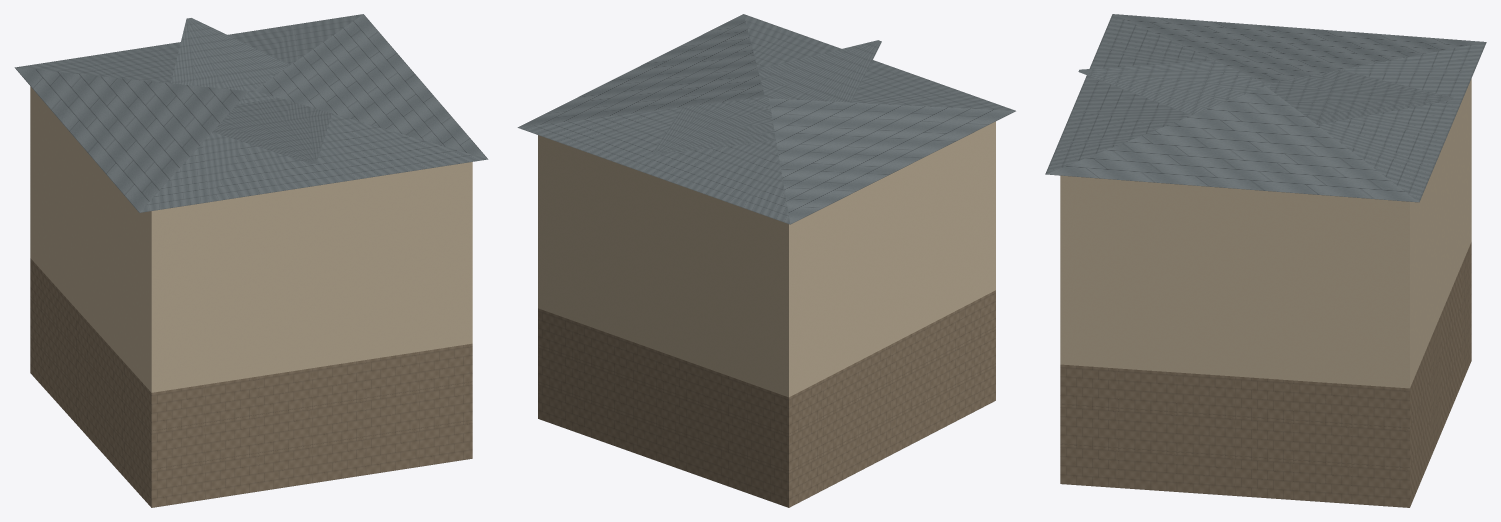
Rendered from bld_c3_19_458.gltf.
3 views of the same model, side by side, from view 1: azimuth 30°, elevation 25°; view 2: azimuth 150°, elevation 25°; view 3: azimuth 270°, elevation 25° (orthographic). The views are drawn at different scales.
Visible parts, largest first — view 1: bld_c3_19_458; view 2: bld_c3_19_458; view 3: bld_c3_19_458.
Part boxes in pixels (x1=…): bld_c3_19_458: x1=14, y1=14, x2=488, y2=507; bld_c3_19_458: x1=517, y1=14, x2=1015, y2=507; bld_c3_19_458: x1=1045, y1=14, x2=1486, y2=507.
Size of the model in its own units: 17.25 by 14.4 by 17.08.
Materials: 3 (3 with a texture image).
